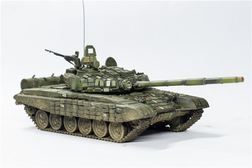t72: (14, 45, 247, 140)
